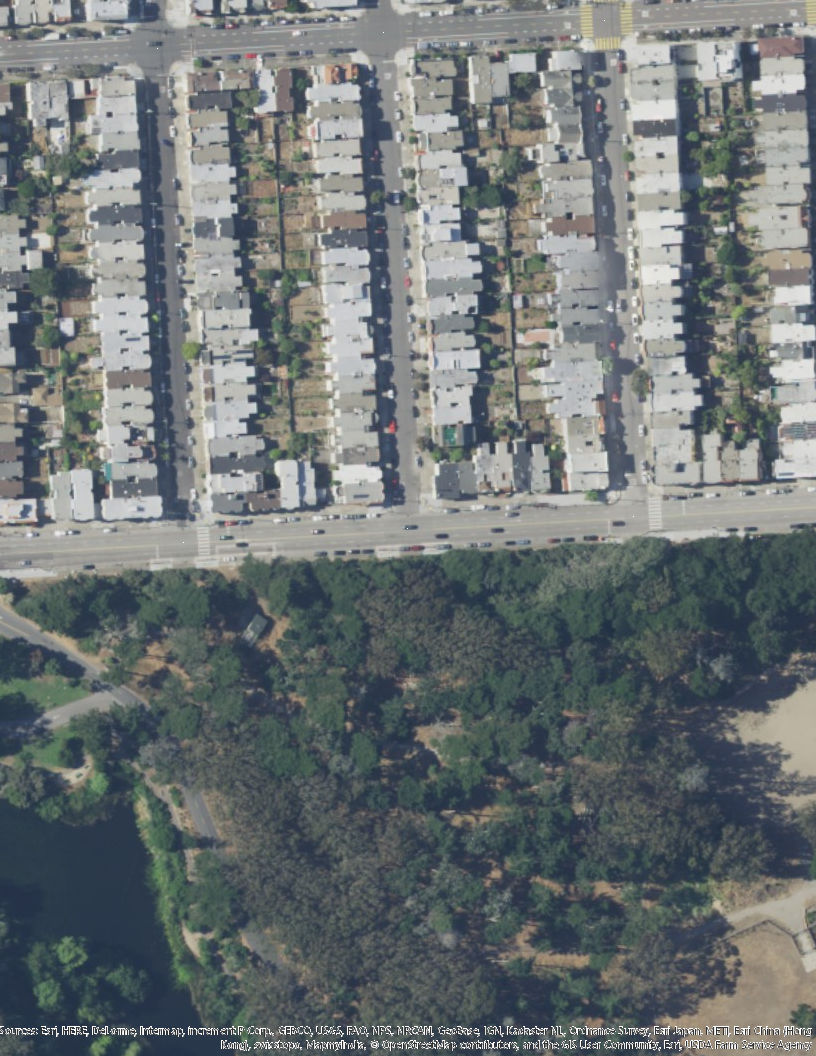zebracross: (196, 523, 211, 560), (618, 1, 634, 35), (578, 5, 594, 38), (648, 493, 661, 530), (593, 36, 622, 51), (807, 1, 816, 25)
